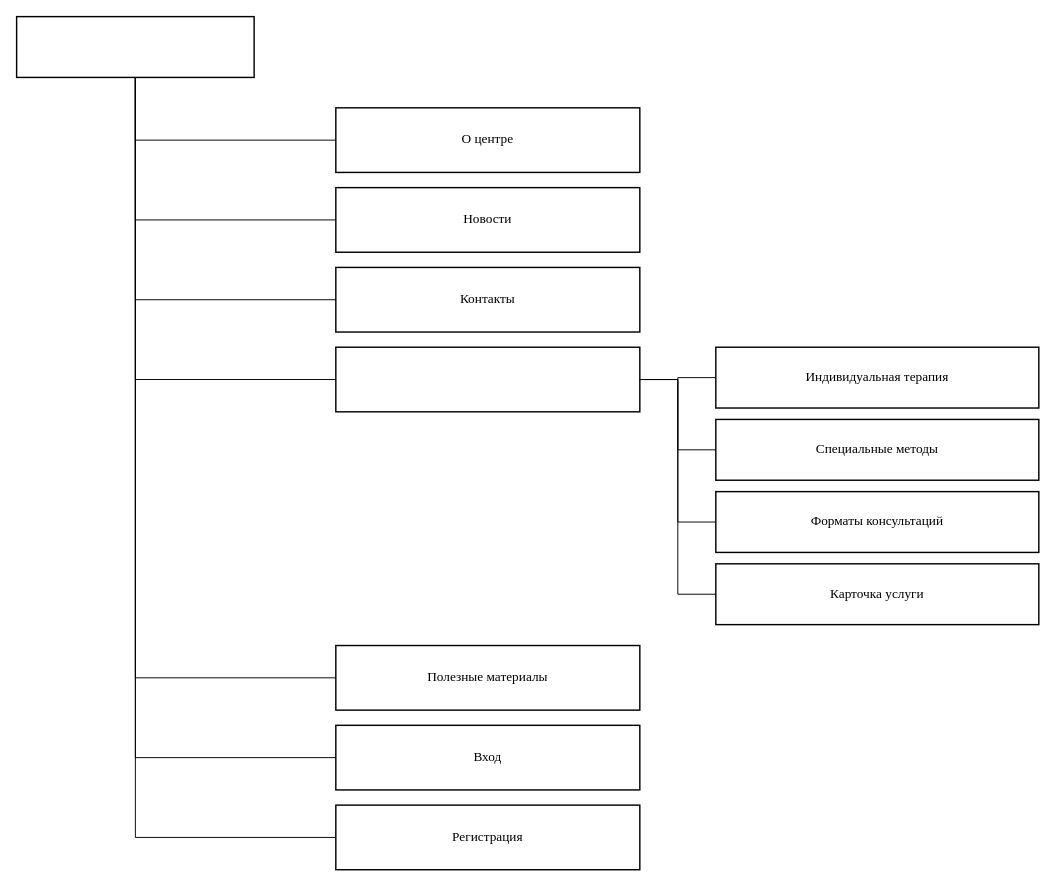
This 1056x887 diagram has some shape labels left out. Here are the shapes that lost their labels. From the top down, the centre of each, then its label:
the point at 134,46: Главная
the point at 487,379: Каталог
